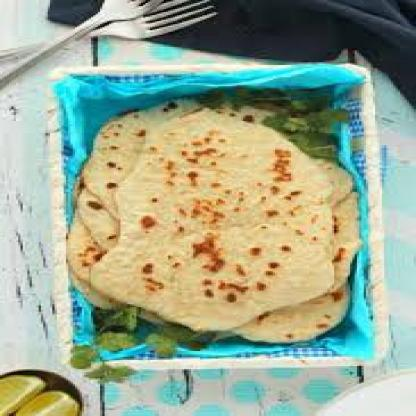naan: (95, 110, 339, 333), (240, 160, 362, 346), (83, 99, 208, 224), (71, 185, 121, 307)
